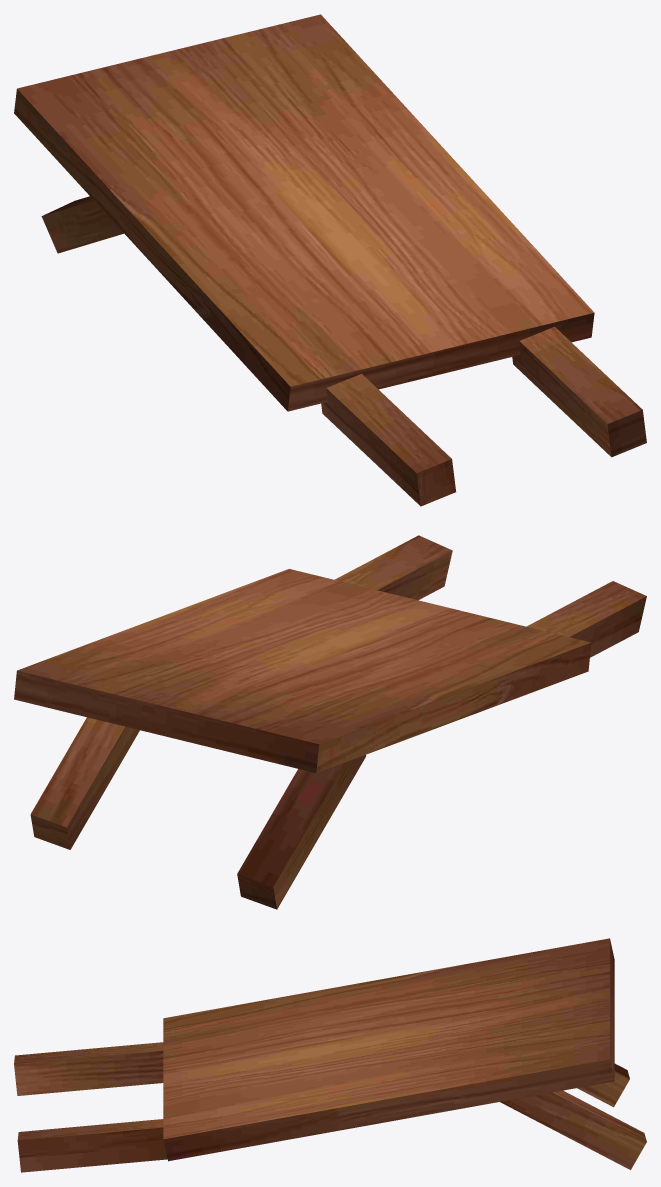
Rendered from table3.fbx.
3 views of the same model, one above another, from view 1: azimuth 30°, elevation 25°; view 2: azimuth 150°, elevation 25°; view 3: azimuth 270°, elevation 25° (orthographic). The views are drawn at different scales.
Visible parts, largest first — view 1: table.001; view 2: table.001; view 3: table.001.
Part boxes in pixels (bbox=[...]): table.001: bbox=[14, 14, 646, 506]; table.001: bbox=[14, 535, 646, 909]; table.001: bbox=[14, 938, 646, 1172].
Size of the model in its own units: 937 by 518 by 2072.
1 material, 1 textured.
